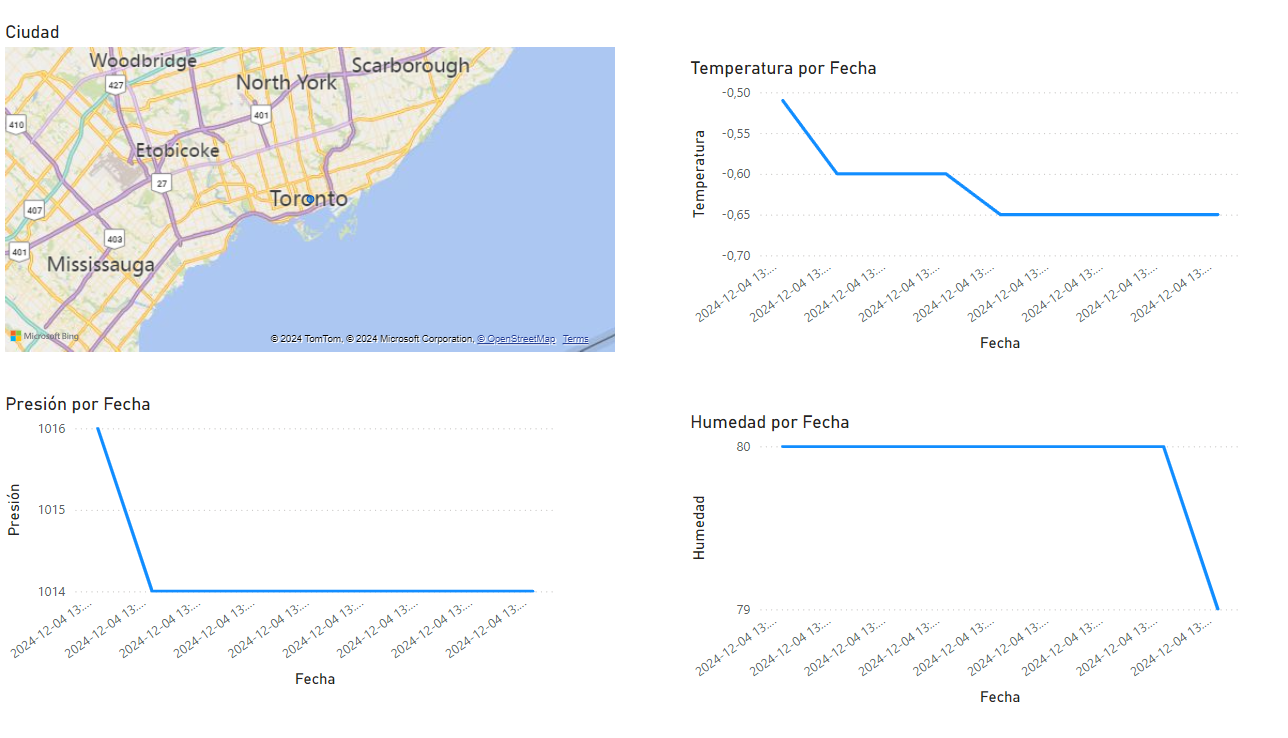

The page's visual inventory and layout, read from the dashboard file:
{"tool":"powerbi","page":{"name":"Página 1","canvas":[1280,720],"ordinal":0},"visuals":[{"type":"map","fields":{"Category":["powerbitable.city"]},"box":[0,45.8,580.4,314],"z":0},{"type":"lineChart","fields":{"Category":["powerbitable.timestamp"],"Y":["Sum(powerbitable.temperature)"]},"box":[640.2,79.4,523.4,280.4],"z":1000},{"type":"lineChart","fields":{"Category":["powerbitable.timestamp"],"Y":["Sum(powerbitable.humidity)"]},"box":[640.2,410.3,523.4,280.4],"z":2000},{"type":"lineChart","fields":{"Category":["powerbitable.timestamp"],"Y":["Sum(powerbitable.pressure)"]},"box":[0,393.5,523.4,280.4],"z":2001}]}

Visuals, with their boxes in screenshot pixels (x1, y1, x2, y2), scaled from the page's 1280x720 canvas onto the 1288x738 screenshot:
map - powerbitable.city: [left=0, top=47, right=584, bottom=369]
lineChart - powerbitable.timestamp x Sum(powerbitable.temperature): [left=644, top=81, right=1171, bottom=369]
lineChart - powerbitable.timestamp x Sum(powerbitable.humidity): [left=644, top=421, right=1171, bottom=708]
lineChart - powerbitable.timestamp x Sum(powerbitable.pressure): [left=0, top=403, right=527, bottom=691]
